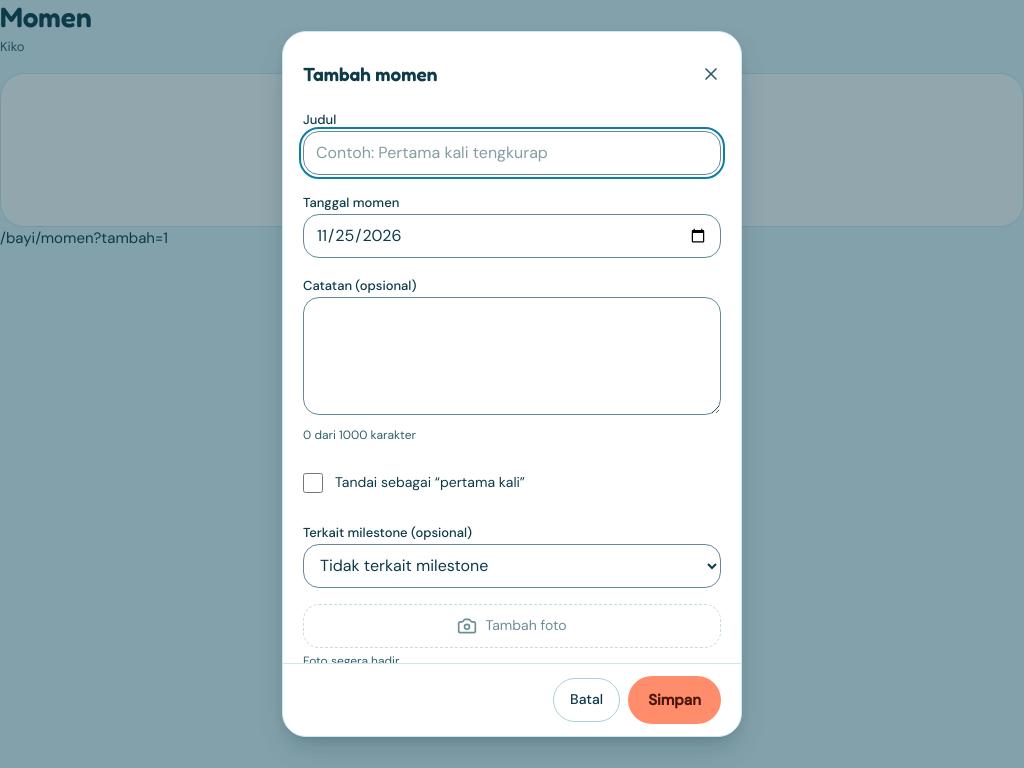
MomenPage: pengendalian lembar lewat URL › menyimpan menutup lembar: ?tambah=1 hilang dari URL (bukan ditimpa kembali)
The image size is (1024, 768).
In the field labelled "Judul": (512, 153) [303,131,721,175], type "Tertawa"
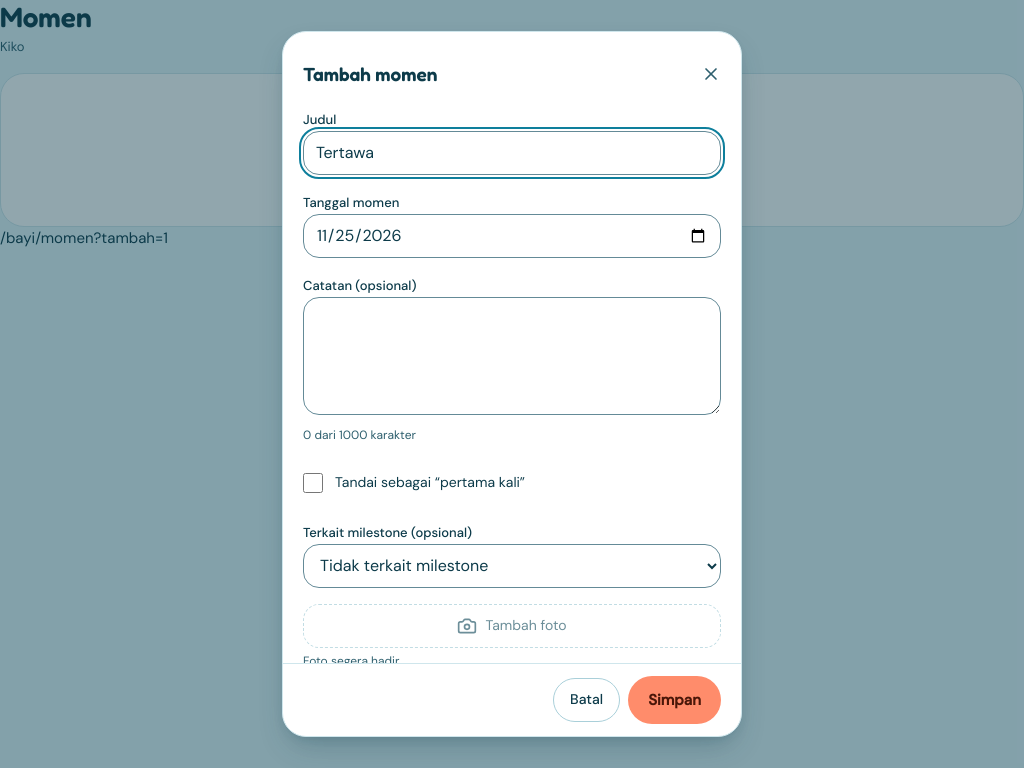
Click the button "Simpan": (675, 700) [628,676,721,724]
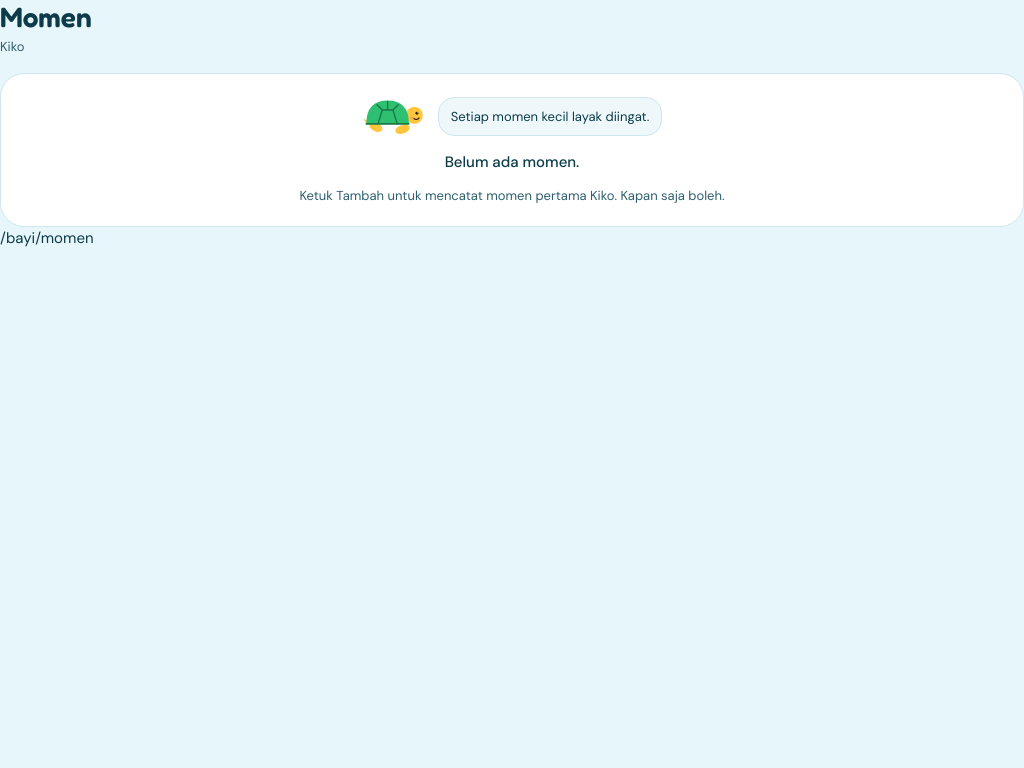
Now the text with test id "lokasi" reads "/bayi/momen", box [0,228,94,248]
